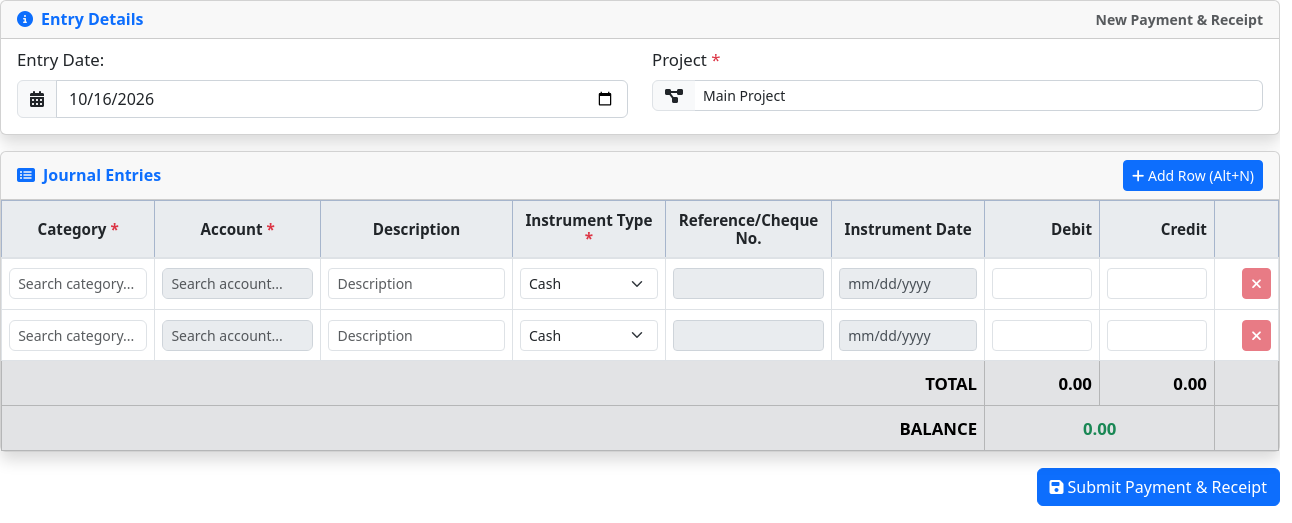
it: PaymentReceiptForm › clears and disables cheque fields when the instrument changes to Cash
Expected: the field named "Entry 1 Reference No." is disabled, [673, 268, 824, 299]
Expected: the date field named "Entry 1 instrument date" is disabled, [839, 268, 977, 299]
Select "Cheque" in the dropdown named "Entry 1 instrument type" at (589, 284), box [520, 268, 658, 299]
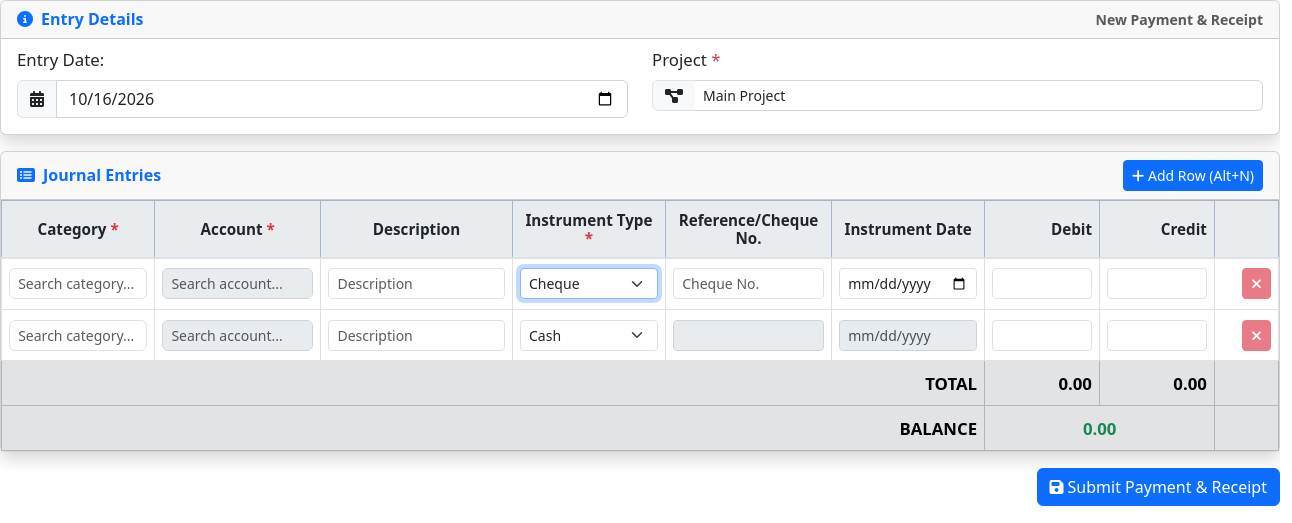
Type "000123" into the field named "Entry 1 Reference No." at (748, 284), box [673, 268, 824, 299]
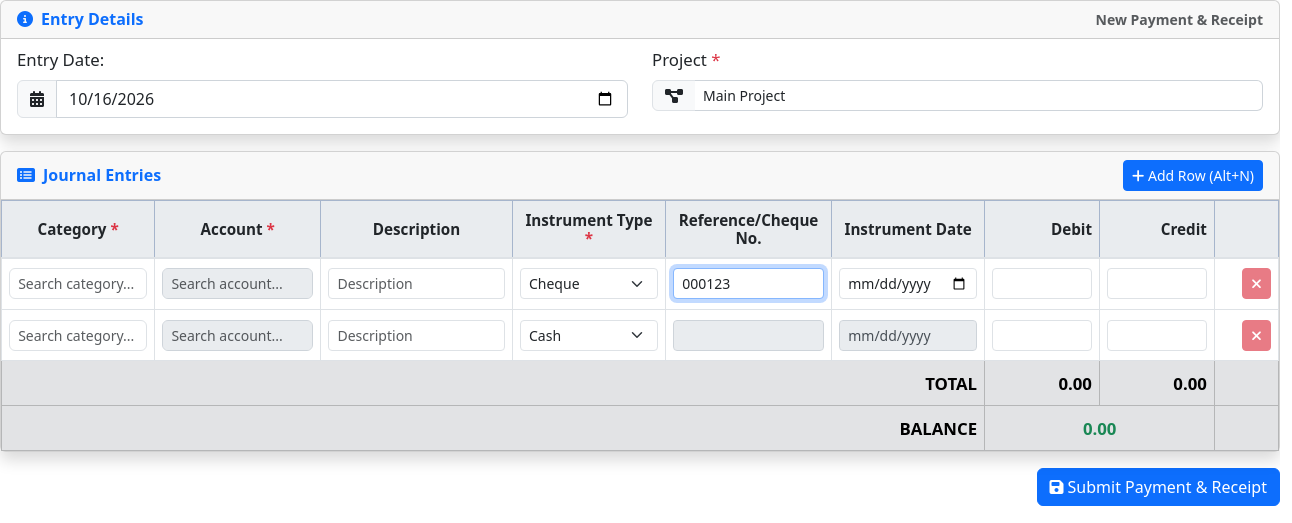
Type "2026-07-20" into the date field named "Entry 1 instrument date" at (908, 284), box [839, 268, 977, 299]
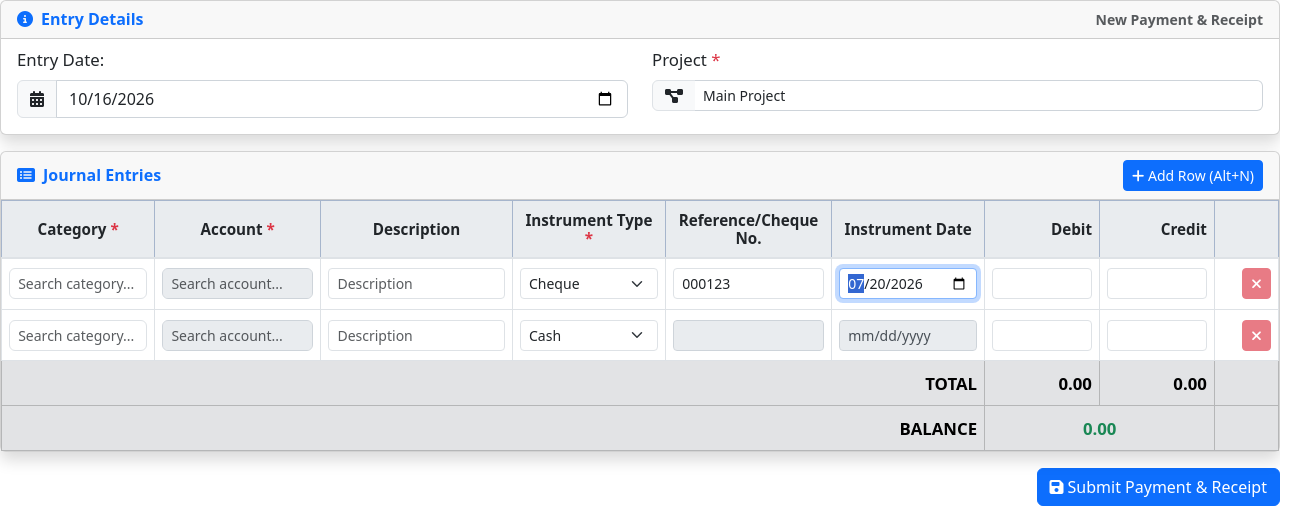
Select "Cash" in the dropdown named "Entry 1 instrument type" at (589, 284), box [520, 268, 658, 299]
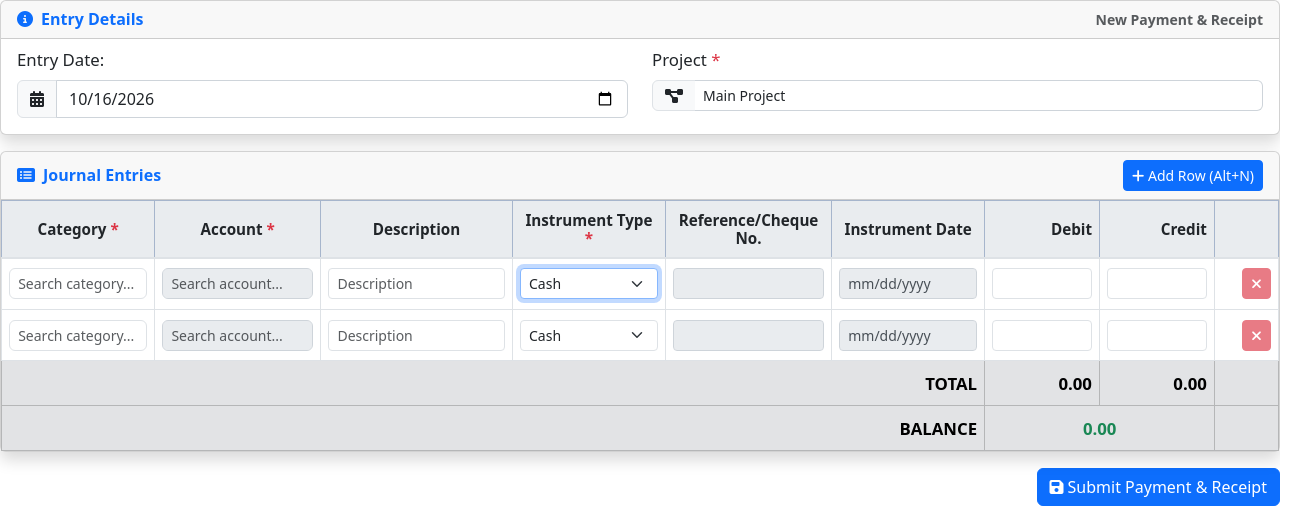
Expected: the field named "Entry 1 Reference No." is disabled, [673, 268, 824, 299]
Expected: the field named "Entry 1 Reference No." is empty, [673, 268, 824, 299]
Expected: the date field named "Entry 1 instrument date" is disabled, [839, 268, 977, 299]
